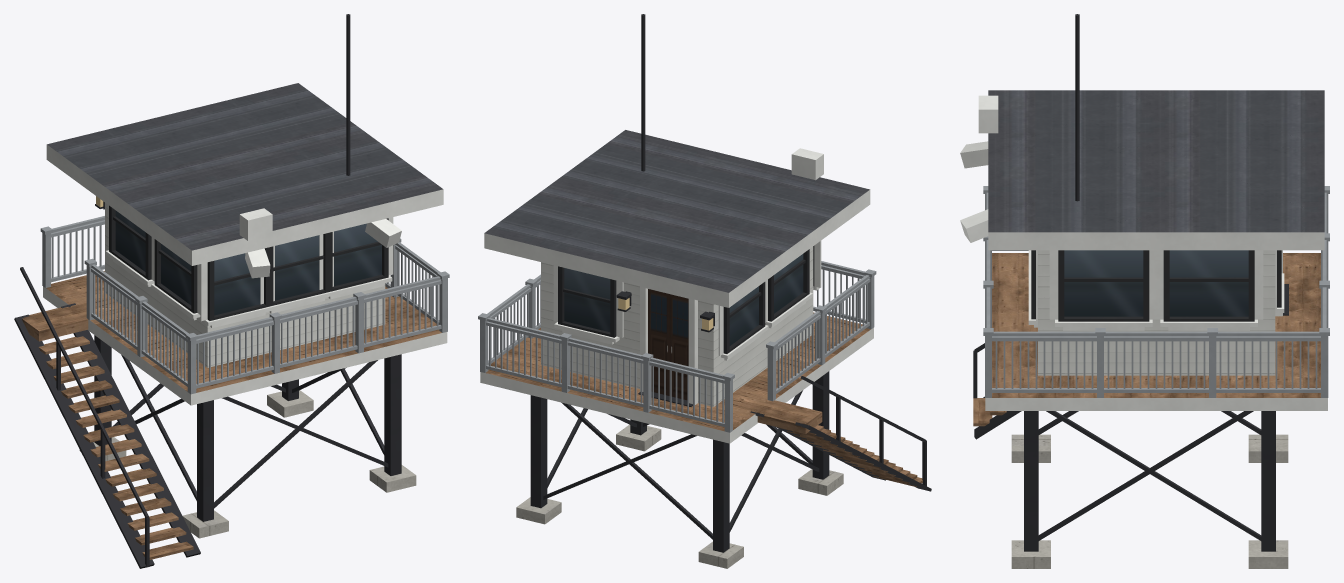
The model's file is tour_judges_tower.fbx.
3 views of the same model, side by side, from view 1: azimuth 30°, elevation 25°; view 2: azimuth 150°, elevation 25°; view 3: azimuth 270°, elevation 25° (orthographic). The views are drawn at different scales.
Visible parts, largest first — view 1: tour_judges_tower_LOD0; view 2: tour_judges_tower_LOD0; view 3: tour_judges_tower_LOD0.
Boxes of the visible parts, left/top/right/bottom form: tour_judges_tower_LOD0: left=14, top=14, right=449, bottom=568; tour_judges_tower_LOD0: left=478, top=14, right=931, bottom=568; tour_judges_tower_LOD0: left=960, top=14, right=1329, bottom=568.
Size of what is drawn, in the model's own units: 6.34 by 8.92 by 5.61.
Materials: 2 (2 with a texture image).
